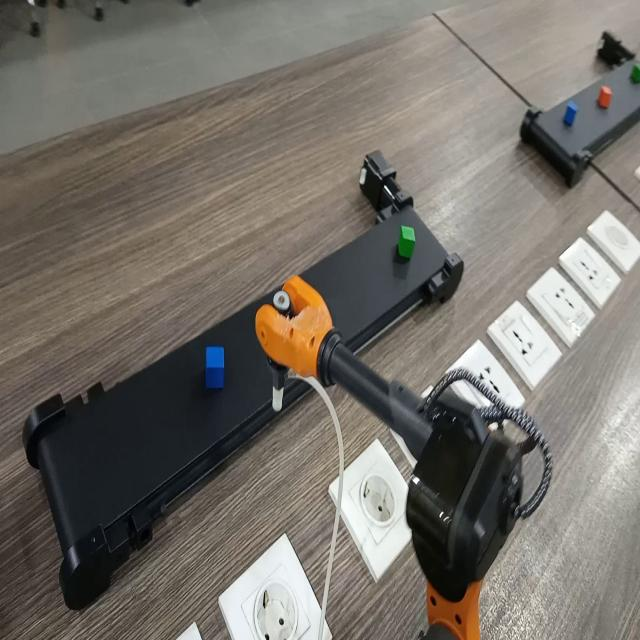cube: (201, 341, 235, 394), (394, 222, 421, 265), (562, 98, 579, 127), (597, 85, 615, 110)
